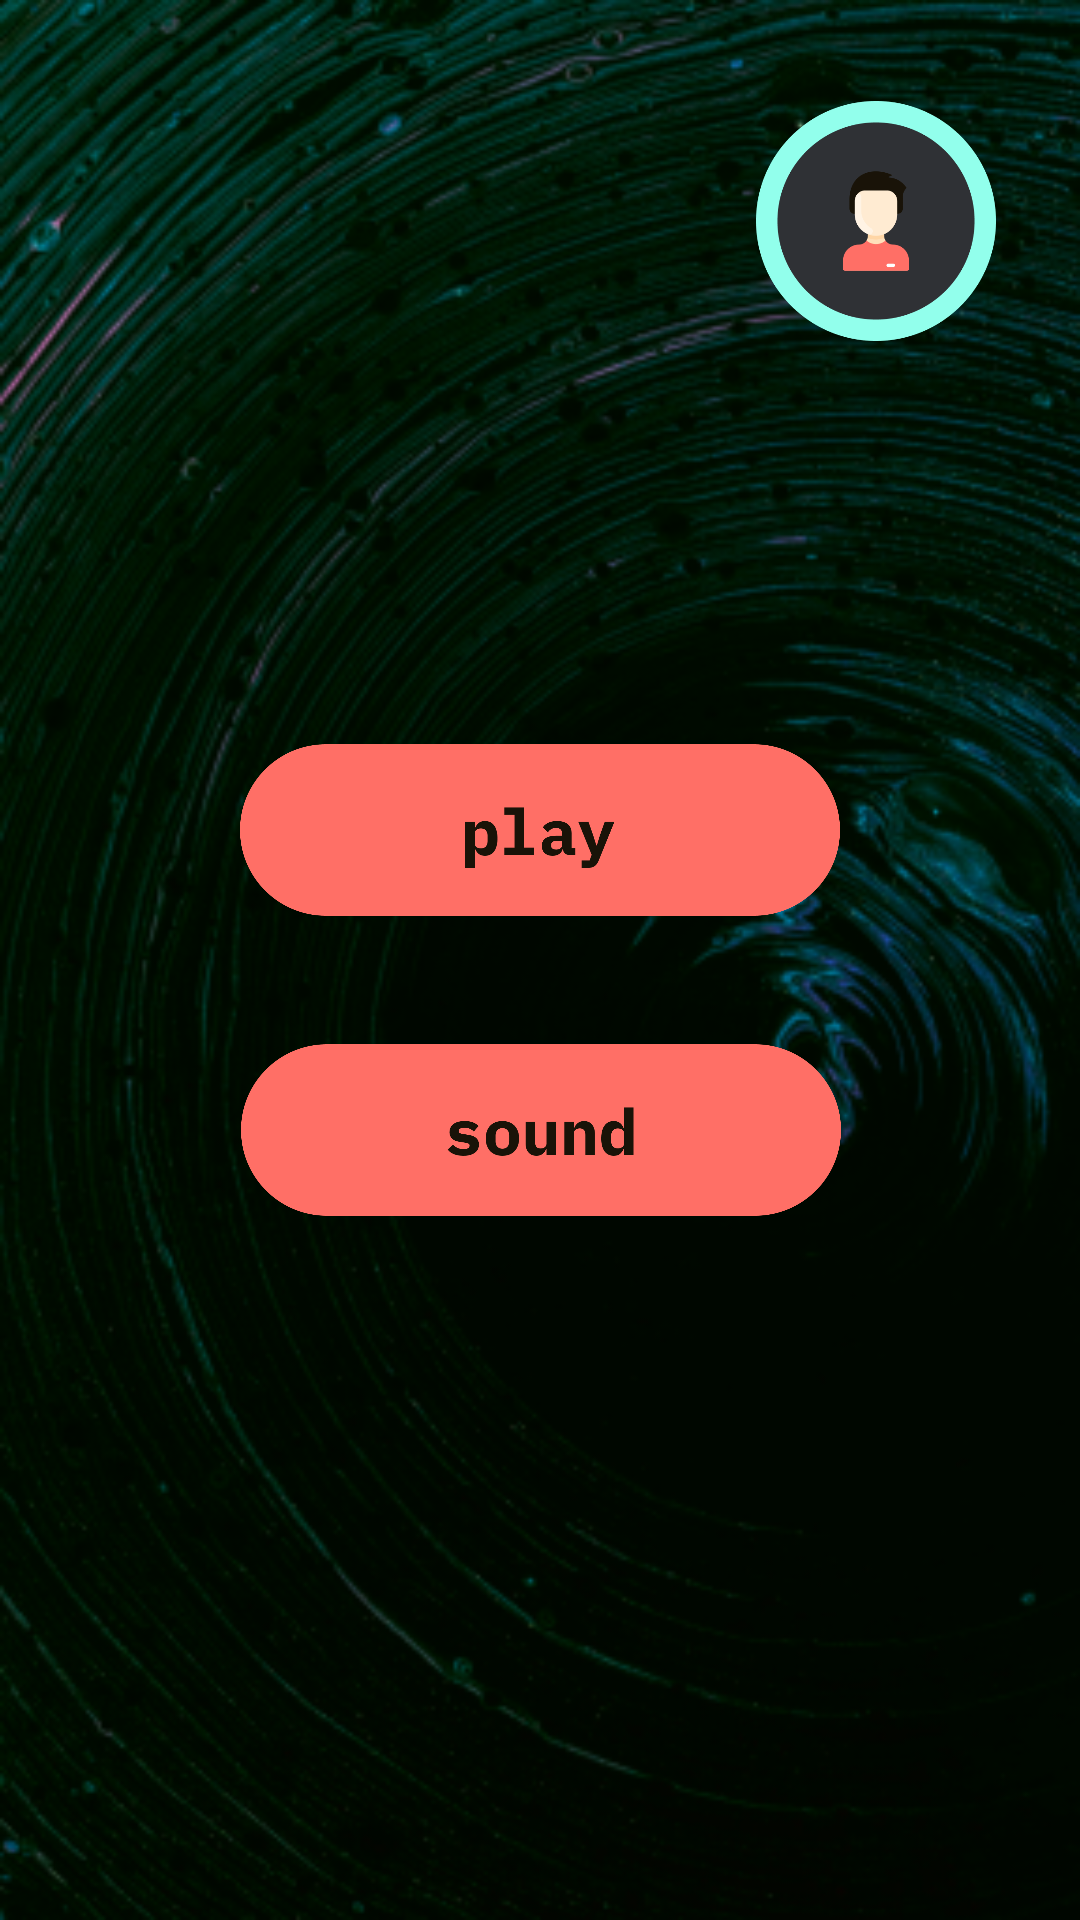

Locate icon controls on the screen. Image size 1080 × 1920, boxes as (x1, y1, x2, y2).
profile: (756, 101, 996, 341)
